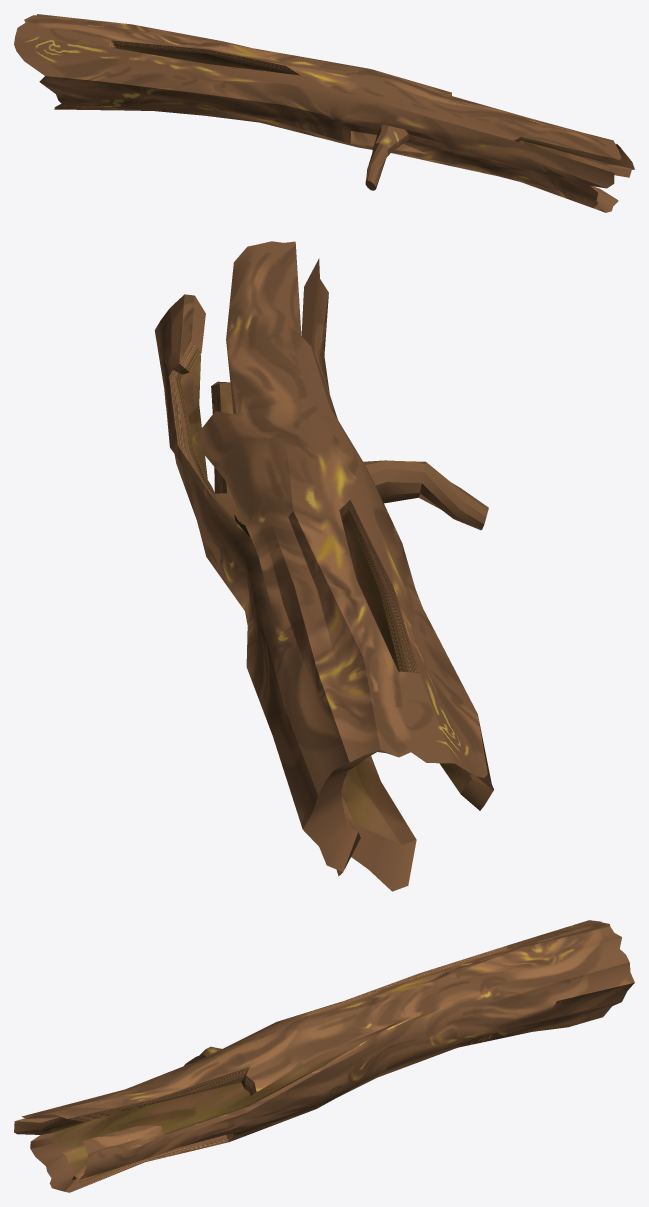
The model's file is TRONCO_3.fbx.
3 views of the same model, one above another, from view 1: azimuth 30°, elevation 25°; view 2: azimuth 150°, elevation 25°; view 3: azimuth 270°, elevation 25° (orthographic). The views are drawn at different scales.
Visible parts, largest first — view 1: tronco_3; view 2: tronco_3; view 3: tronco_3.
Part boxes in pixels (x1,y1,x2,y2): tronco_3: (14,14,634,212); tronco_3: (154,241,493,891); tronco_3: (14,920,634,1192).
Size of the model in its own units: 650 by 144 by 833.
